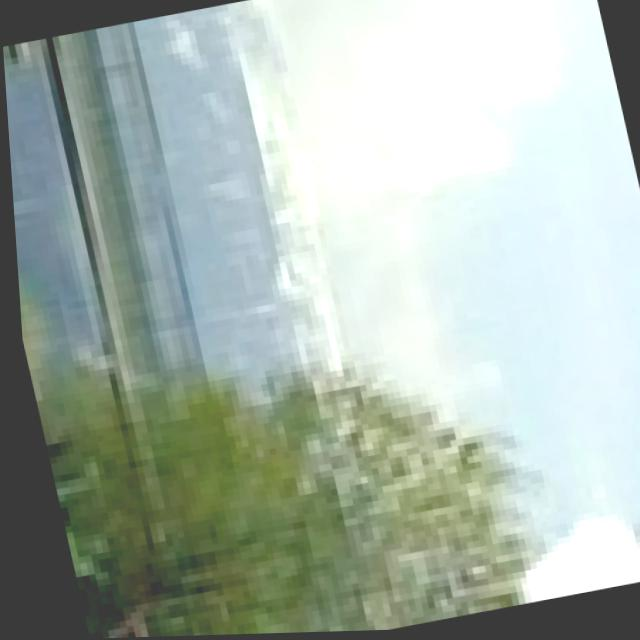smoke: (424, 413, 640, 618)
